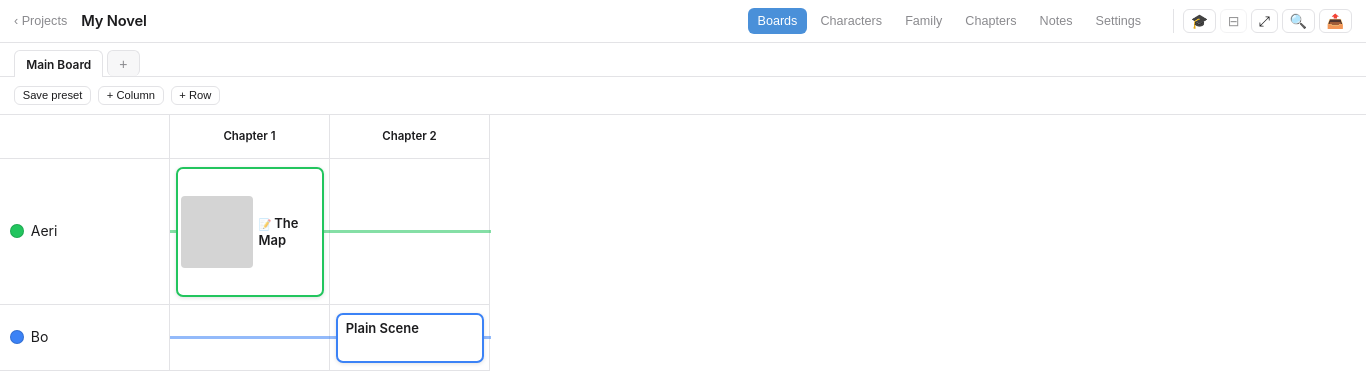
Test: image card on the board › hides the picture on a masked card in revision mode
The image size is (1366, 388).
Expected: the heading "My Novel" is shown, [81,12,147,30]
Expected: the text "Plain Scene" is shown, [346,320,419,336]
Click the button titled "revision mode" at x=1199, y=21, box [1183,9,1216,33]
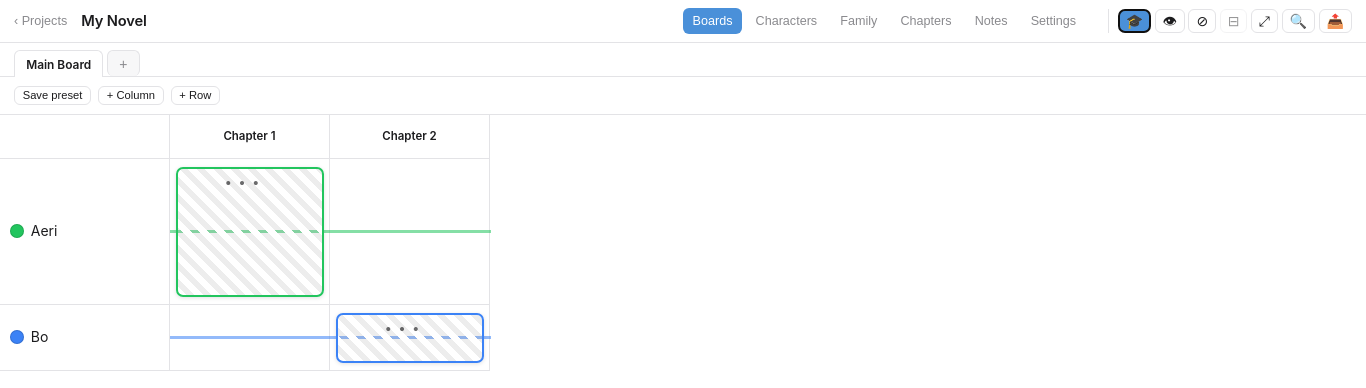
Expected: the number of elements with class "masked" is 2, [176,166,324,296]; [336,312,484,362]
Expected: the picture is gone
